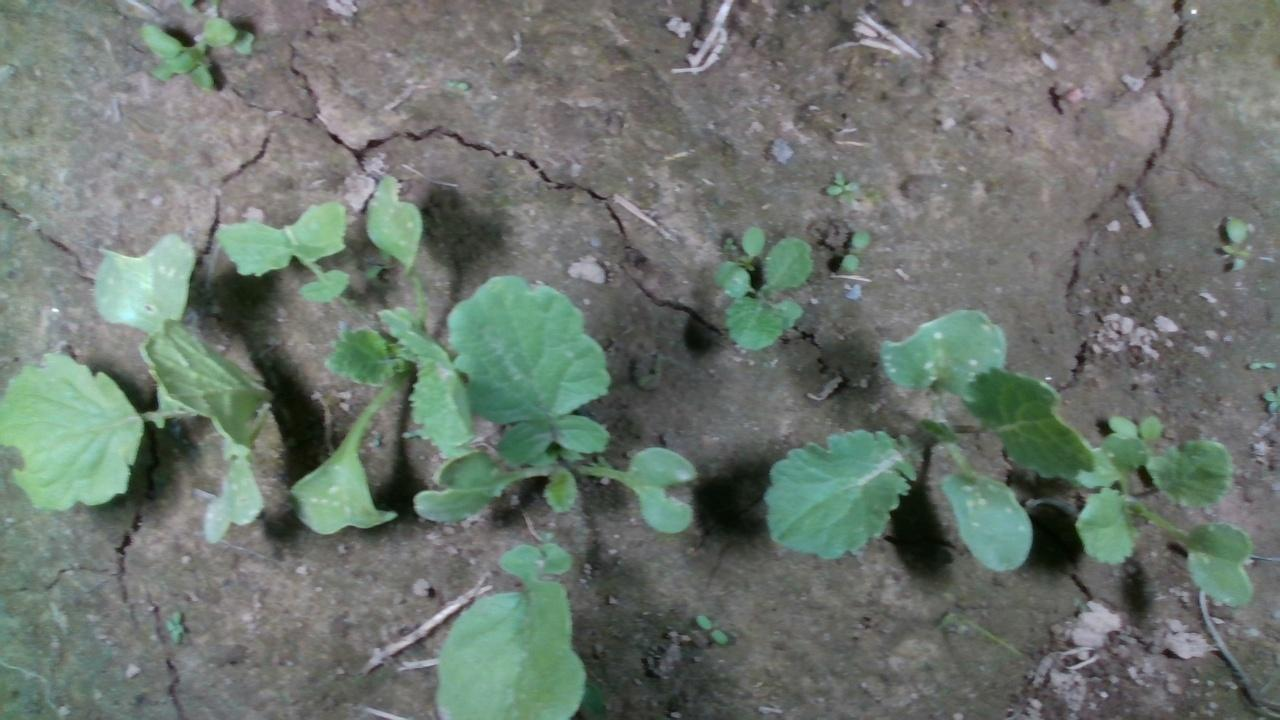weed: (1222, 213, 1257, 274), (842, 226, 869, 272), (825, 169, 864, 198)
